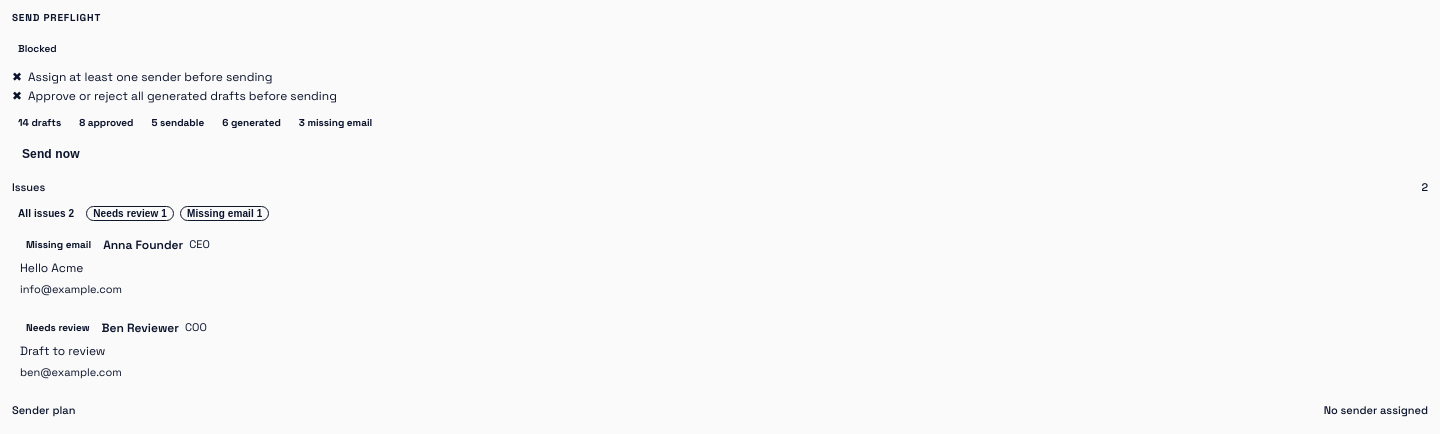
Test: CampaignSendPreflightCard › shows preflight issue filters with concrete draft context
The image size is (1440, 434).
Expected: the text "Issues" is shown, [12,179,45,197]
Expected: the button "All issues 2" is shown, [12,206,80,221]
Click the button "Needs review 1".
click(130, 213)  # box [86,206,174,221]
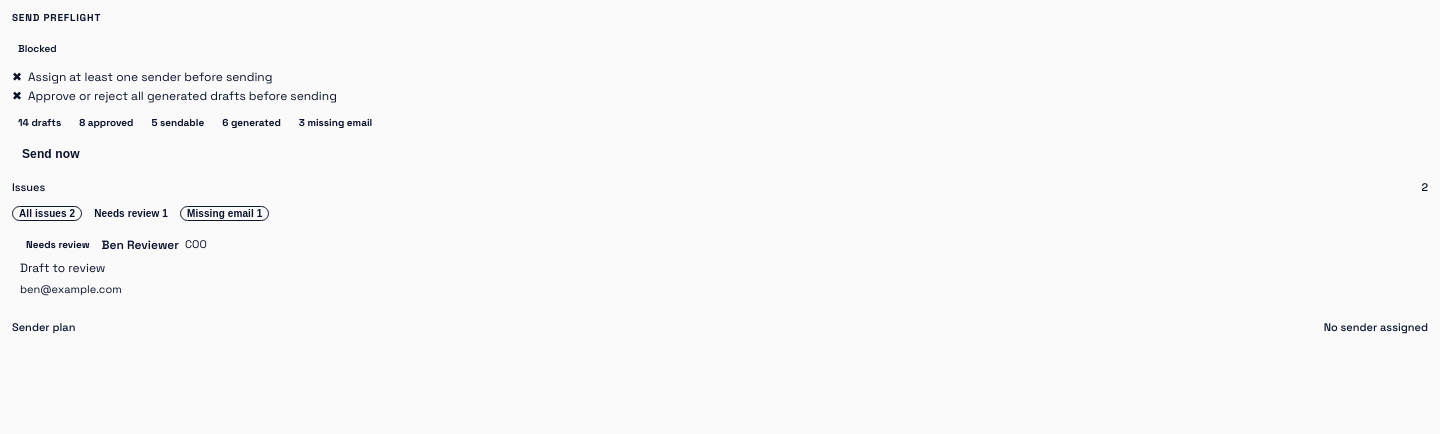
Expected: the text "Ben Reviewer" is shown, [102,236,179,255]
Now the text "Anna Founder" is gone
